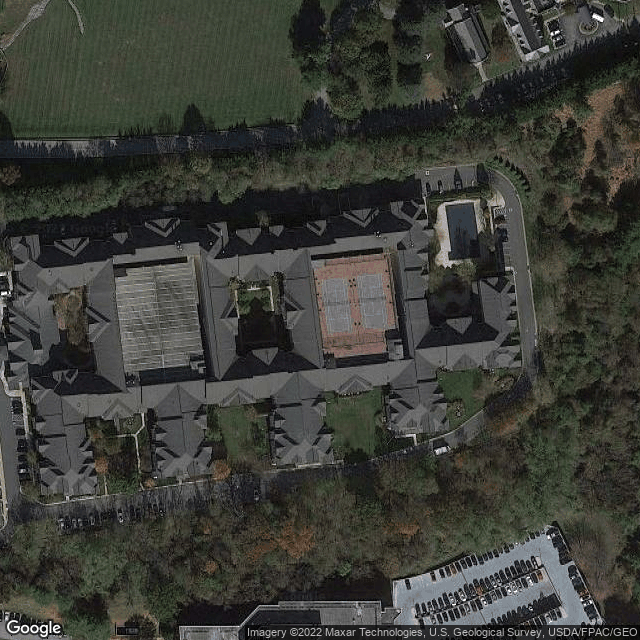Court: (318, 275, 352, 334), (356, 272, 390, 331)
